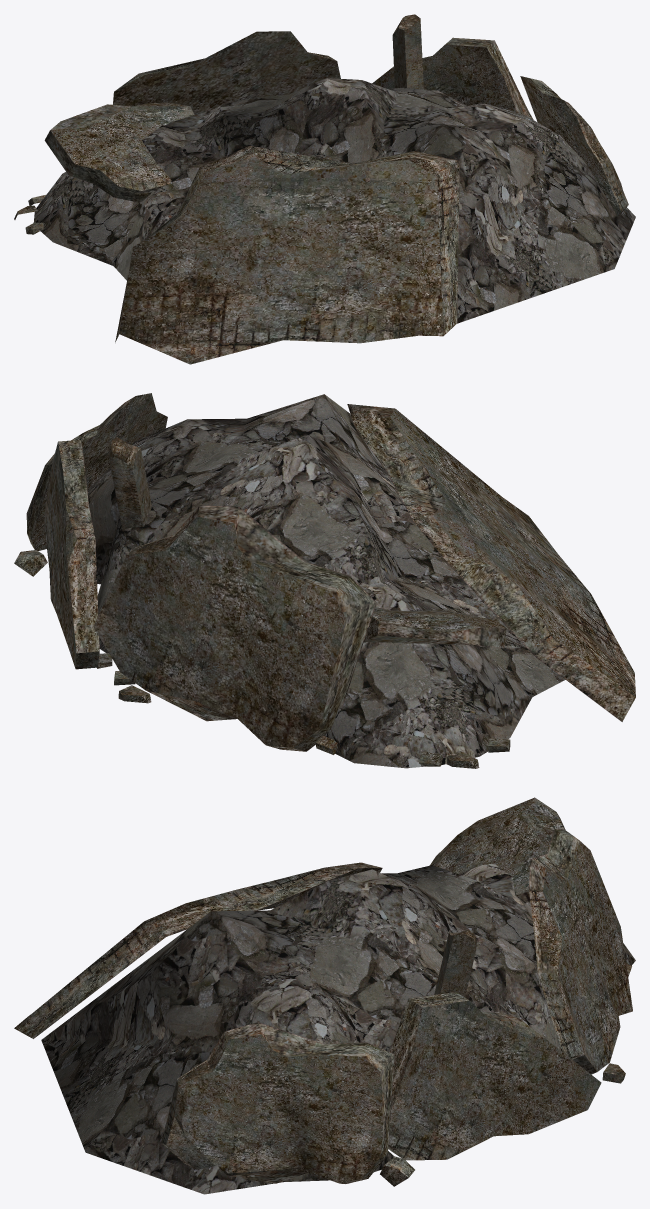
File: Building_Hcz021.glb
3 renders of one model, top to bottom at view 1: azimuth 30°, elevation 25°; view 2: azimuth 150°, elevation 25°; view 3: azimuth 270°, elevation 25°, orthographic. The views are drawn at different scales.
Visible parts, largest first — view 1: xiutz_hcz021_0; view 2: xiutz_hcz021_0; view 3: xiutz_hcz021_0.
Boxes of the visible parts, <box> form: xiutz_hcz021_0: <box>14,14,635,364</box>; xiutz_hcz021_0: <box>14,393,635,768</box>; xiutz_hcz021_0: <box>14,797,635,1194</box>.
Size of the model in its own units: 19.93 by 7.65 by 17.95.
2 materials, 2 textured.
